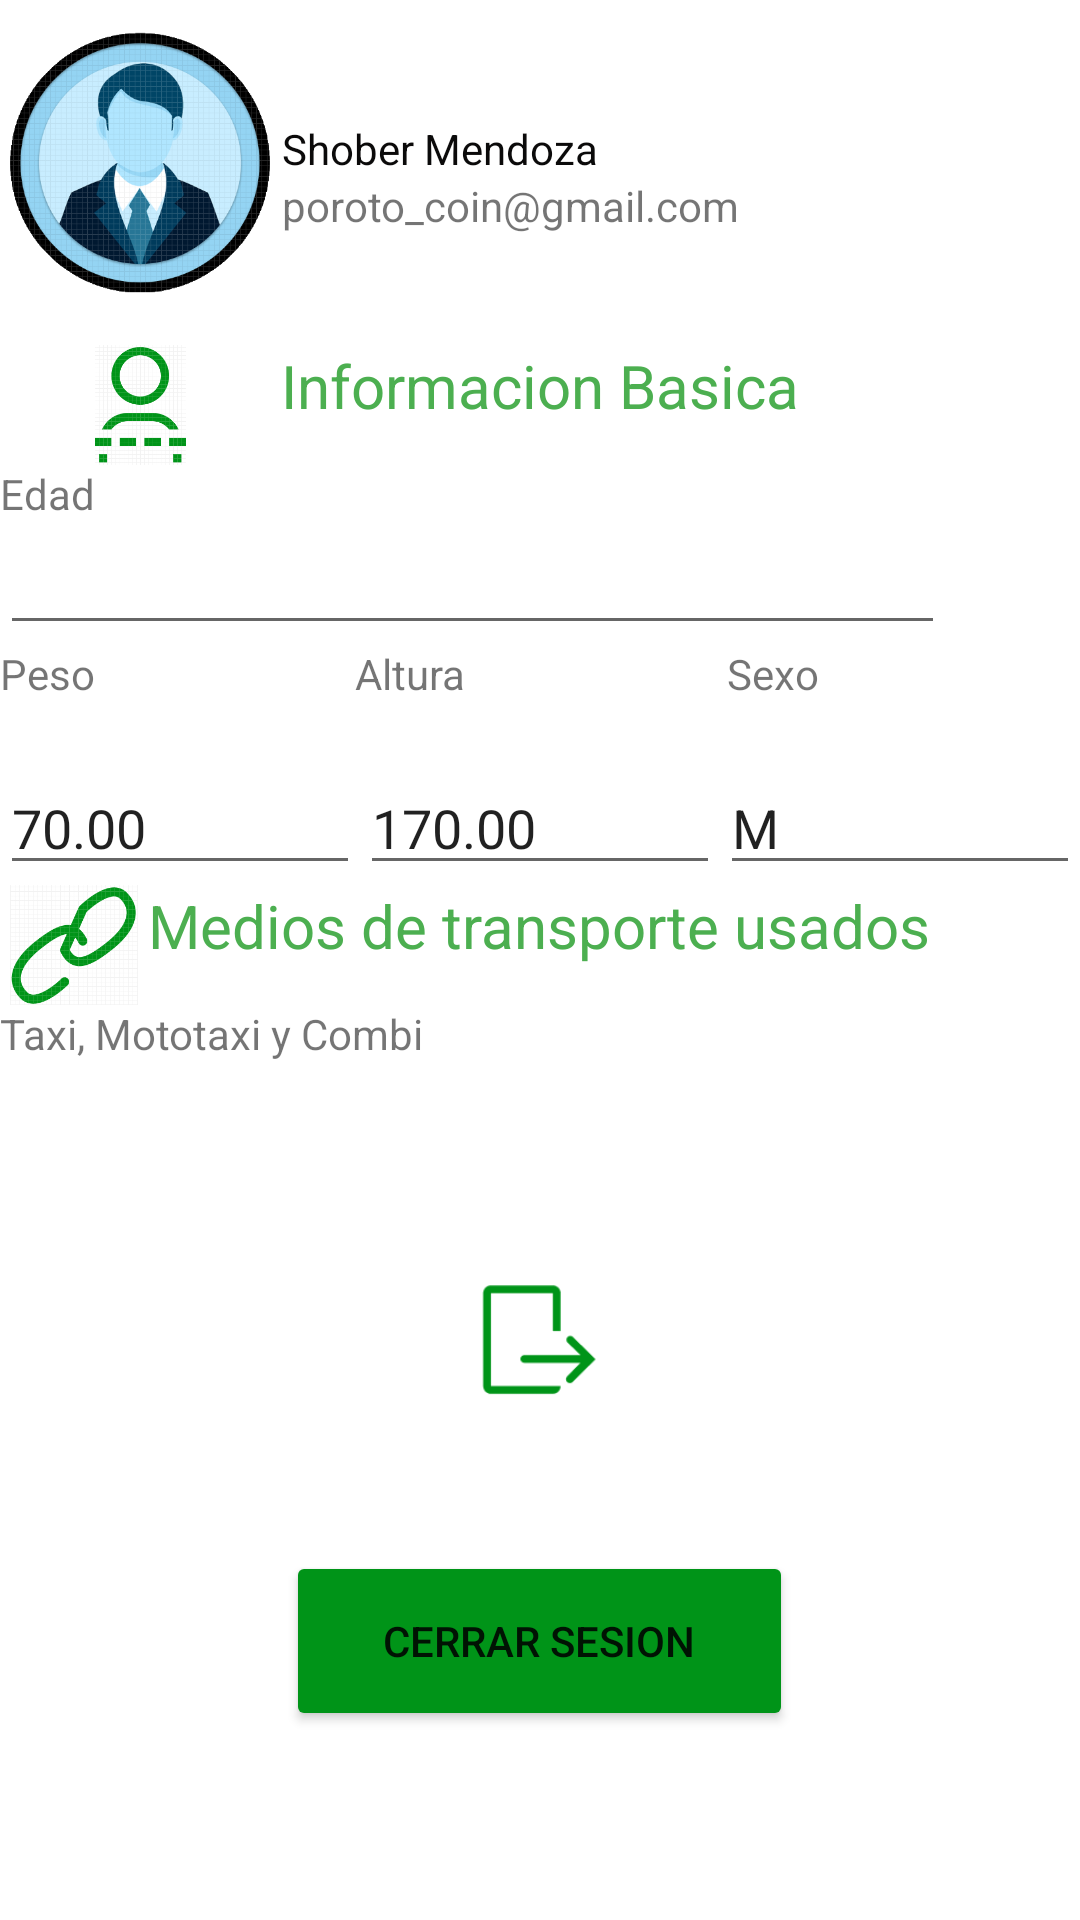

Named icons in this screenshot (1080px x 1920px) and their bounding boxes, (x1, y1, x2, y2):
cerrarsession: (482, 1285, 596, 1394)
perfil: (10, 32, 270, 293)
